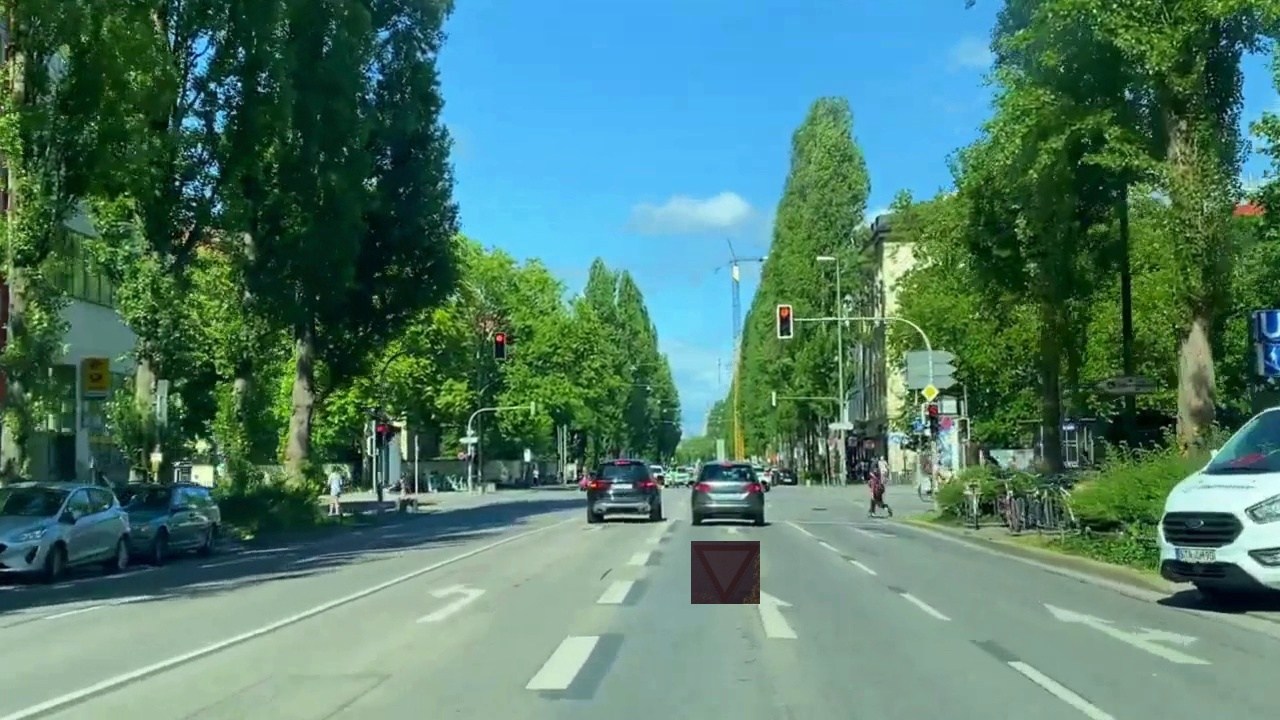Yield: (691, 541, 760, 604)
